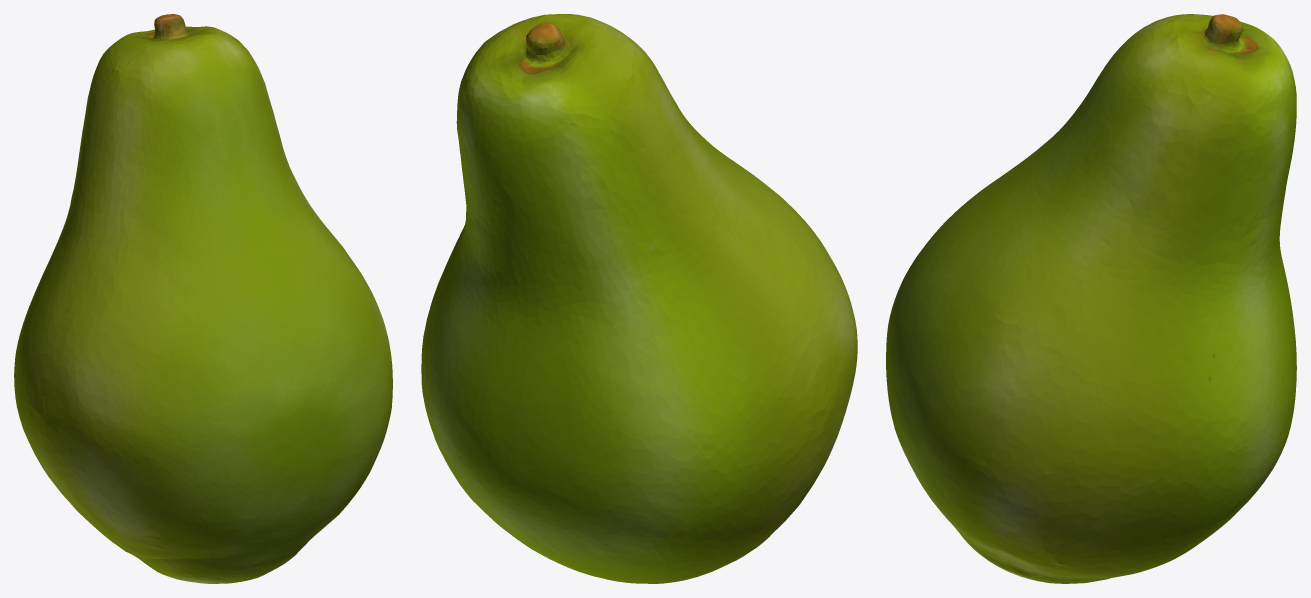
3 renders of one model, left to right at view 1: azimuth 30°, elevation 25°; view 2: azimuth 150°, elevation 25°; view 3: azimuth 270°, elevation 25°, orthographic. The views are drawn at different scales.
Visible parts, largest first — view 1: node; view 2: node; view 3: node.
Part boxes in pixels (bbox=[...]): node: bbox=[14, 14, 392, 583]; node: bbox=[421, 14, 857, 583]; node: bbox=[886, 14, 1296, 583].
Bounding box in the file's own units: 0.0665 × 0.1005 × 0.0657.
1 material, 1 textured.
